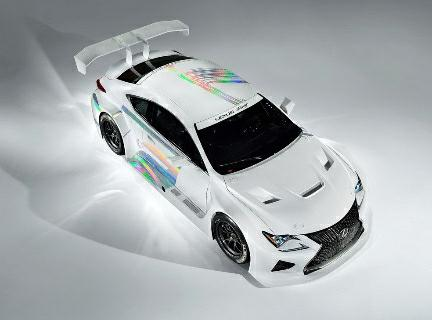雷克萨斯-RCF: (65, 13, 375, 295)
